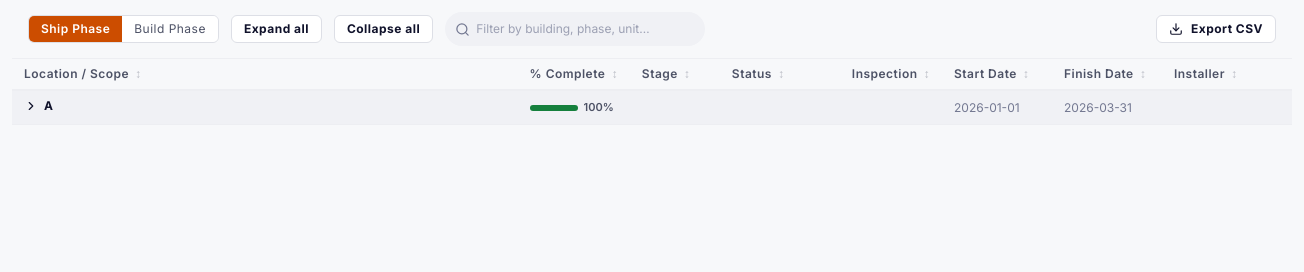
Test: scope name display — canonical vs raw › falls back to description when scopeType is null
Step 1. Click the button "Expand all" → point(276, 29), box [231, 15, 322, 43]
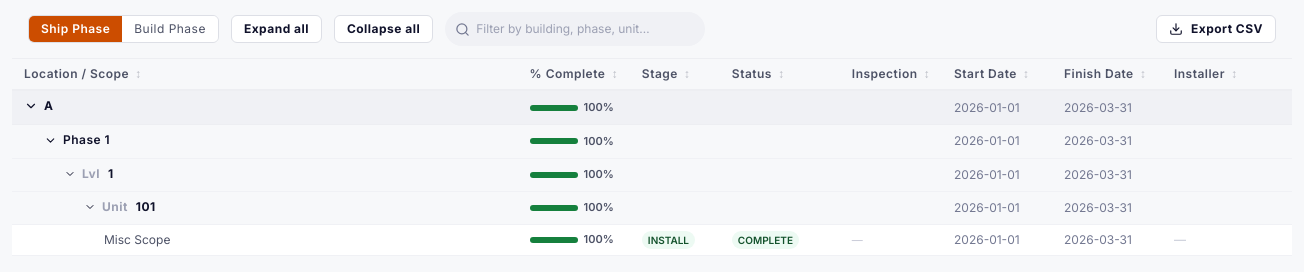
Now the text "Misc Scope" is shown, box [12, 224, 518, 255]
